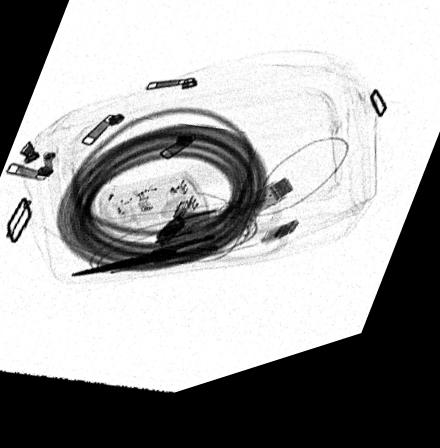Scissors: (66, 214, 289, 284)
